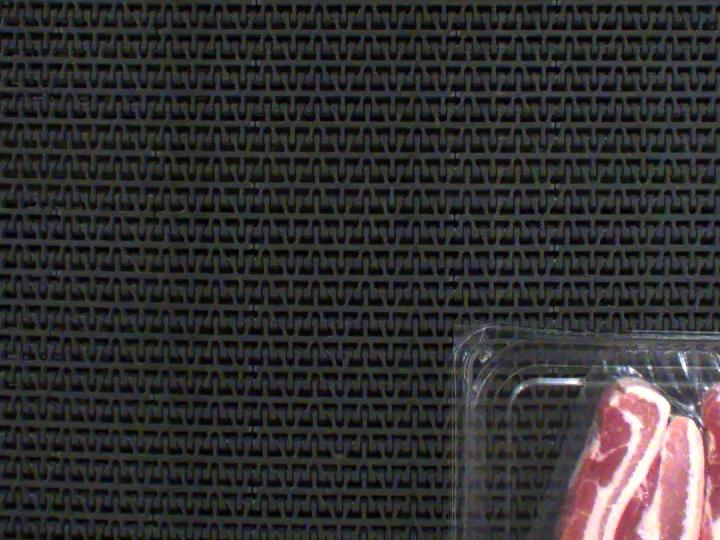unsealed: (505, 348, 720, 540)
